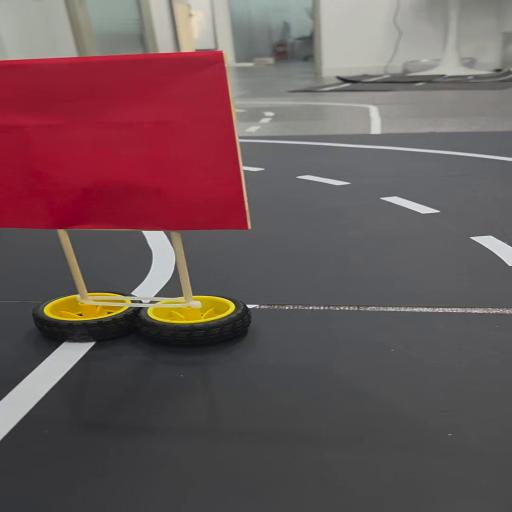Sign_A: (3, 51, 265, 356)
